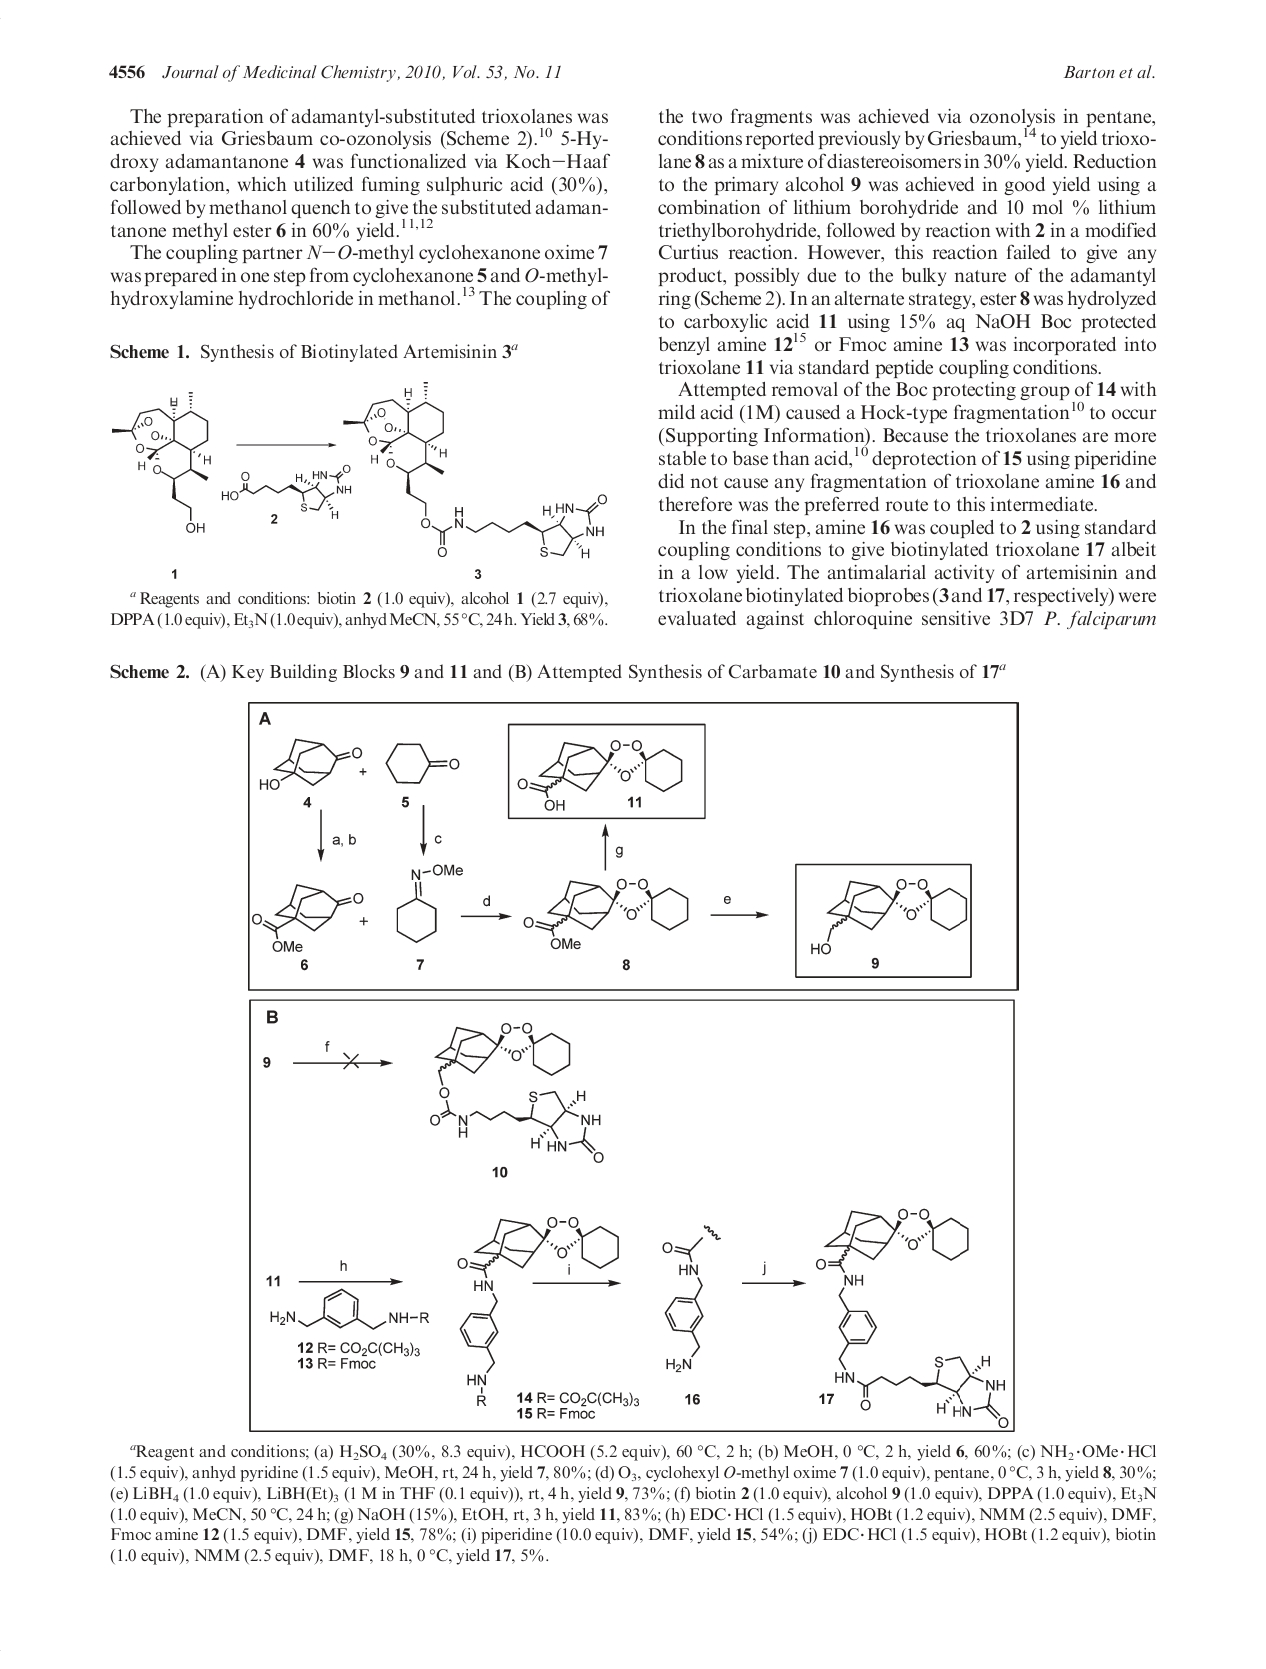exist_molecular: (340, 376, 616, 563), (813, 1200, 1015, 1430), (457, 1212, 629, 1412), (422, 1016, 609, 1170), (104, 387, 213, 539), (806, 872, 969, 959), (519, 870, 692, 951), (516, 733, 688, 807), (215, 453, 364, 531), (657, 1216, 723, 1372), (255, 880, 367, 958), (266, 1286, 438, 1331), (253, 733, 368, 793), (392, 858, 461, 942), (390, 739, 467, 785)
